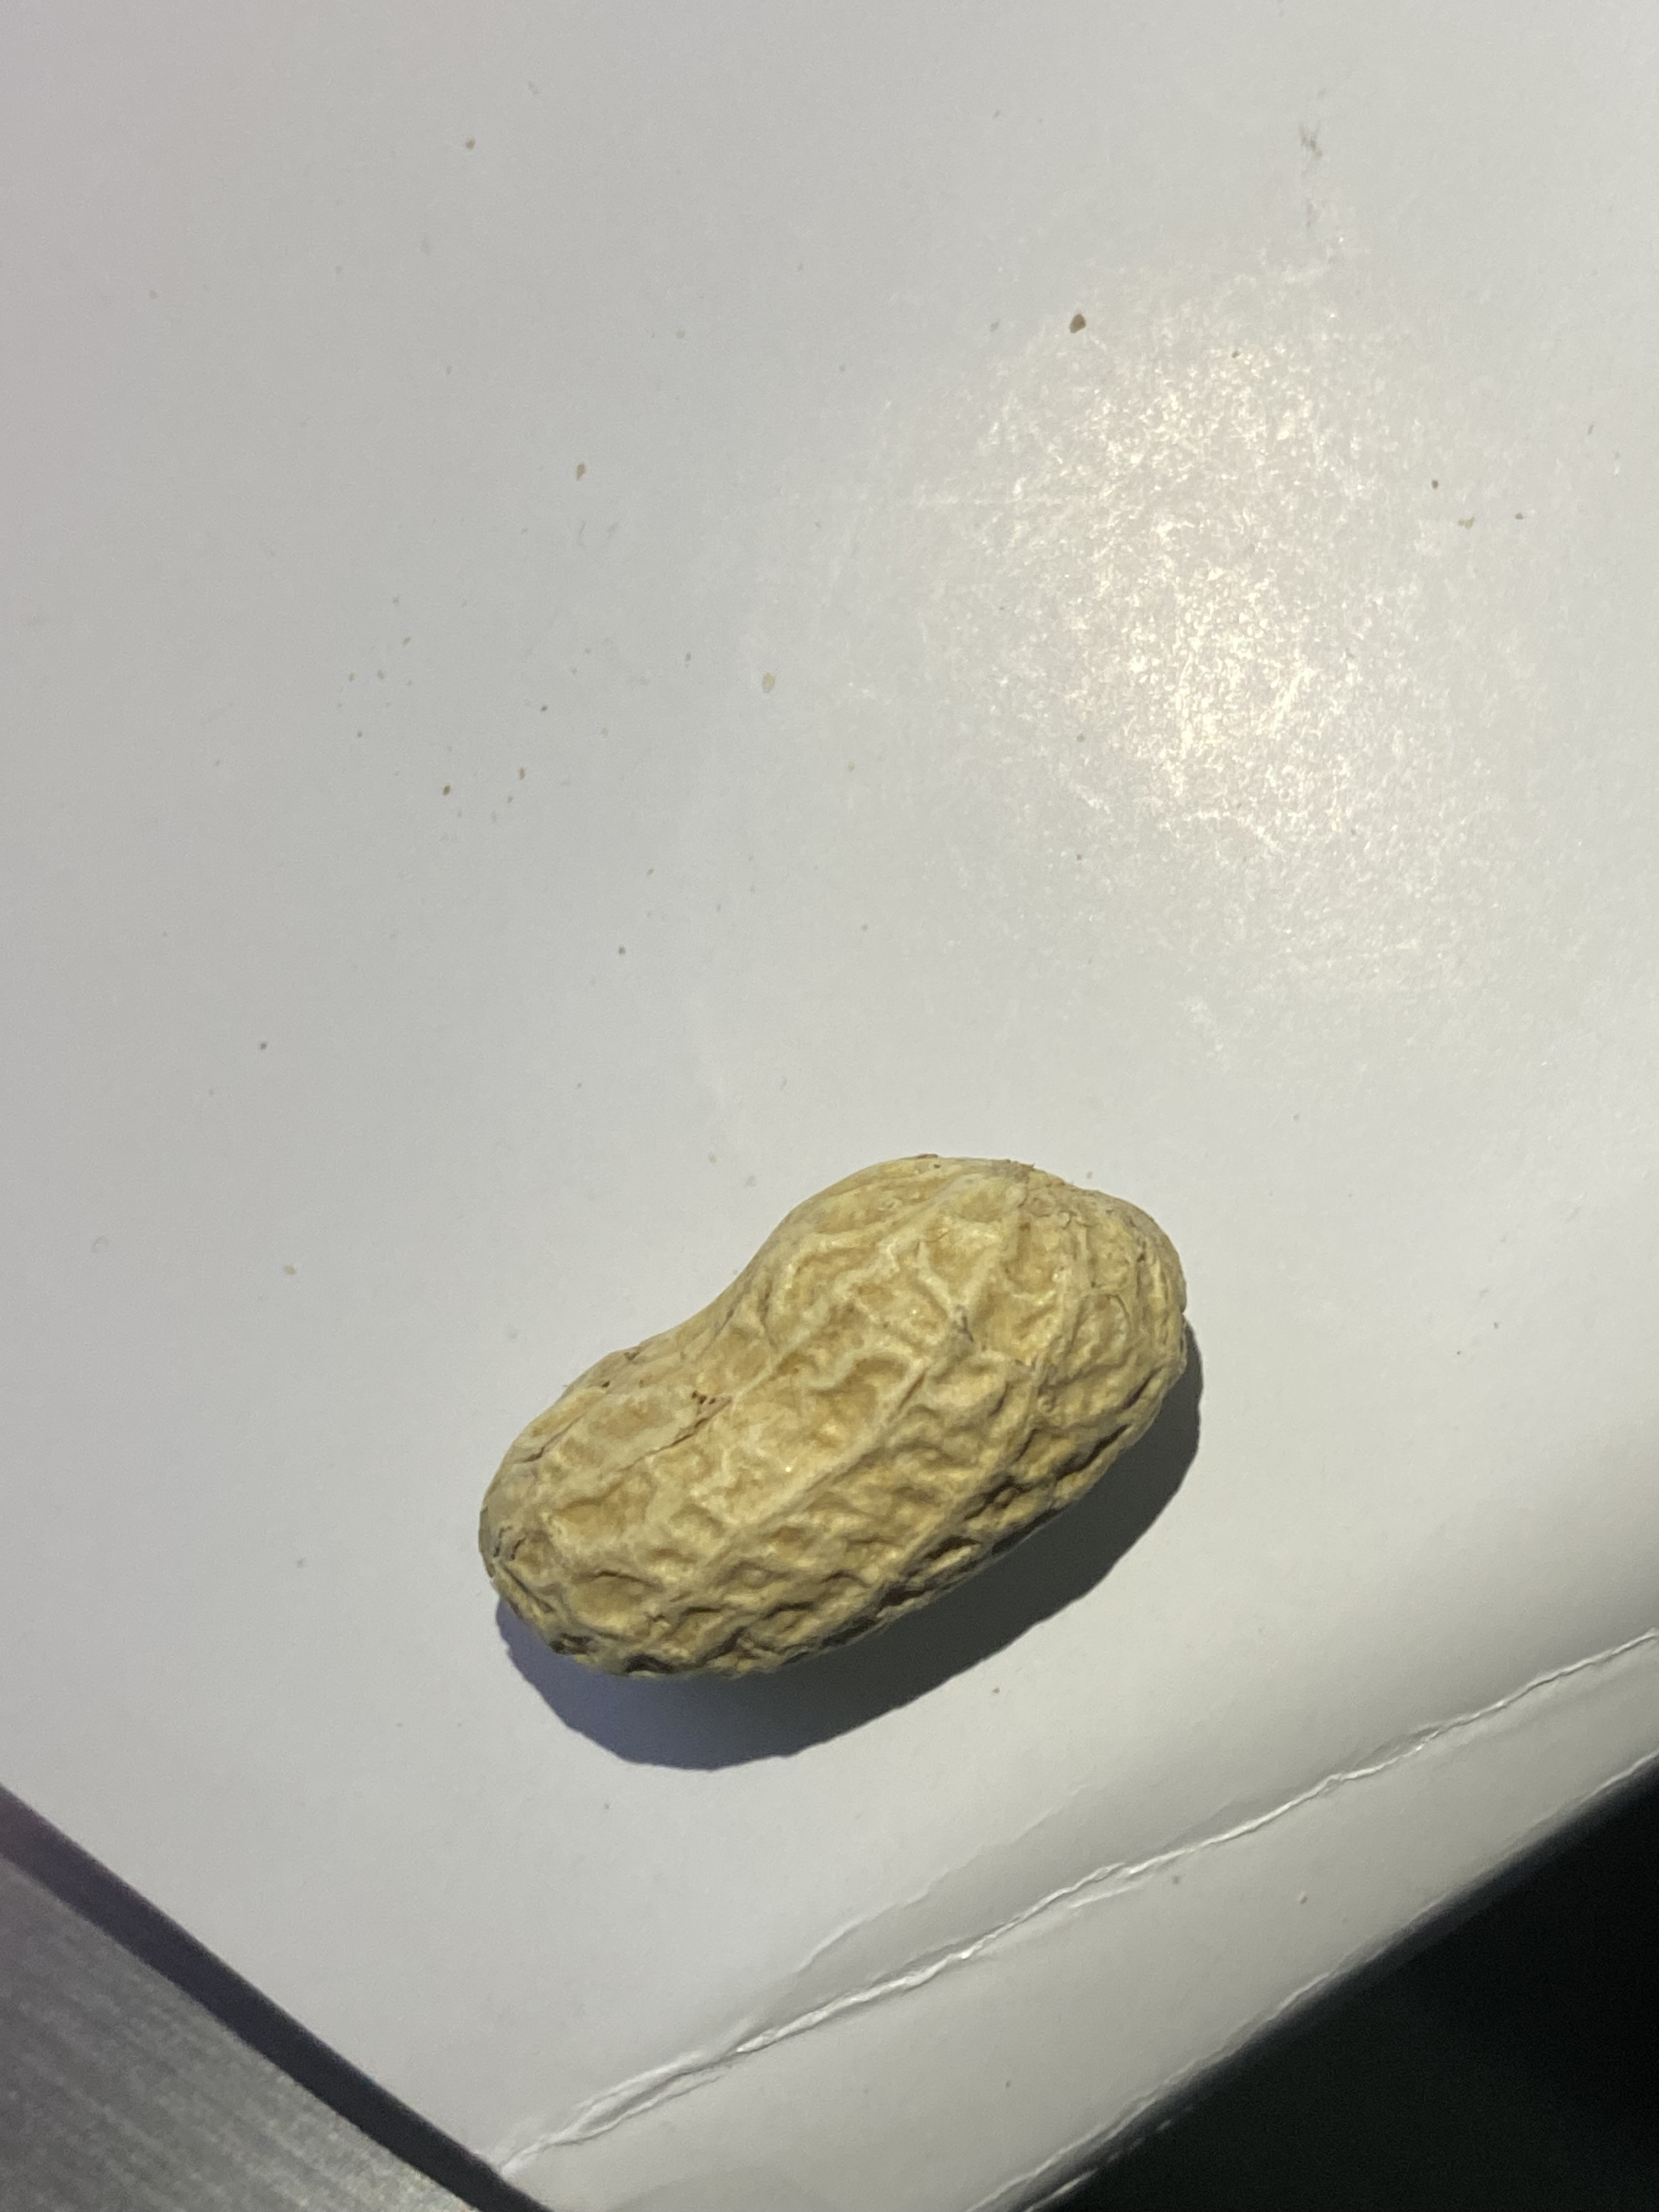kacang2: (423, 1078, 1256, 1754)
